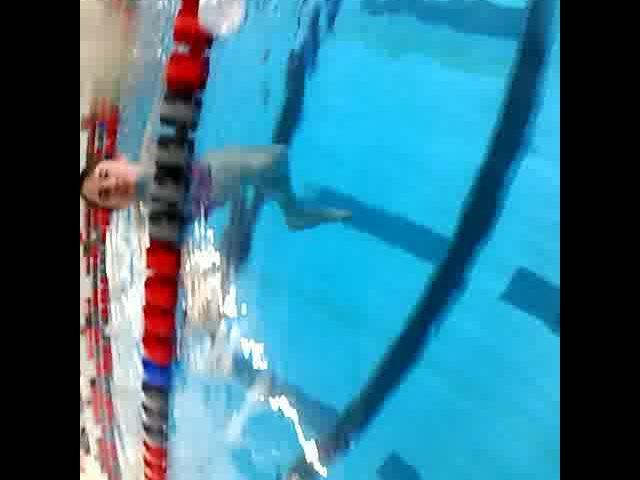Bottle: (181, 0, 265, 42)
